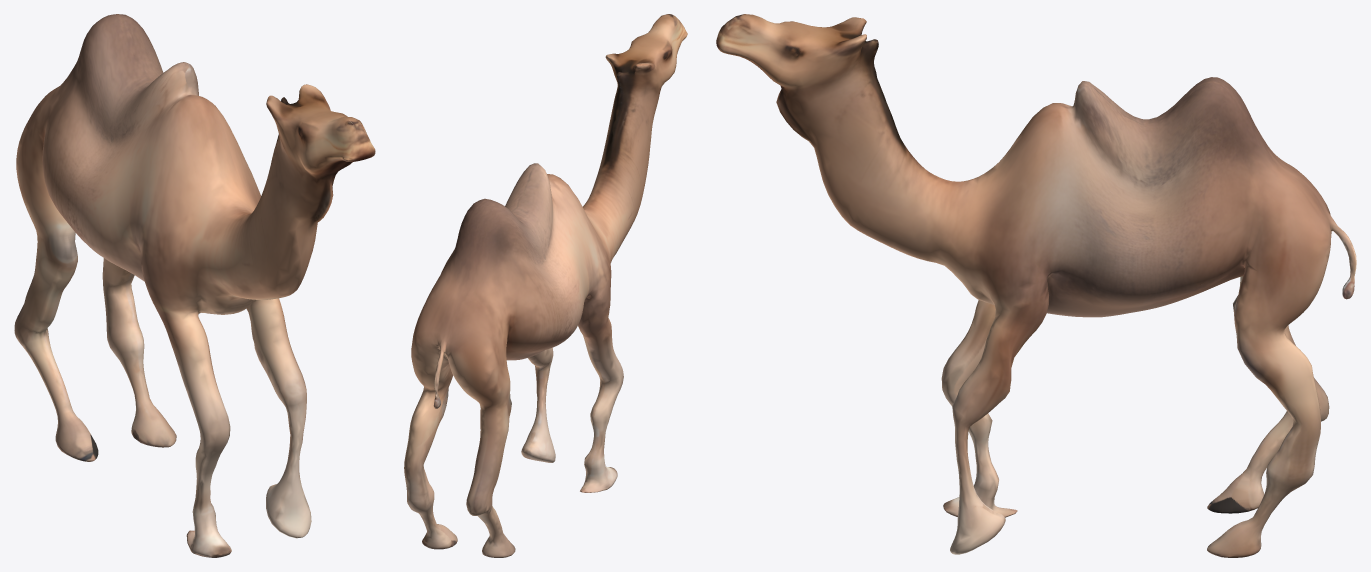
Rendered from camello.glb.
3 views of the same model, side by side, from view 1: azimuth 30°, elevation 25°; view 2: azimuth 150°, elevation 25°; view 3: azimuth 270°, elevation 25° (orthographic). The views are drawn at different scales.
Parts seen in each view (by area): view 1: model; view 2: model; view 3: model.
Part boxes in pixels (x1=…): model: x1=14, y1=14, x2=375, y2=557; model: x1=404, y1=14, x2=687, y2=557; model: x1=716, y1=14, x2=1356, y2=557.
Size of what is drawn, in the model's own units: 0.4776 by 1.58 by 1.78.
1 material, 1 textured.
